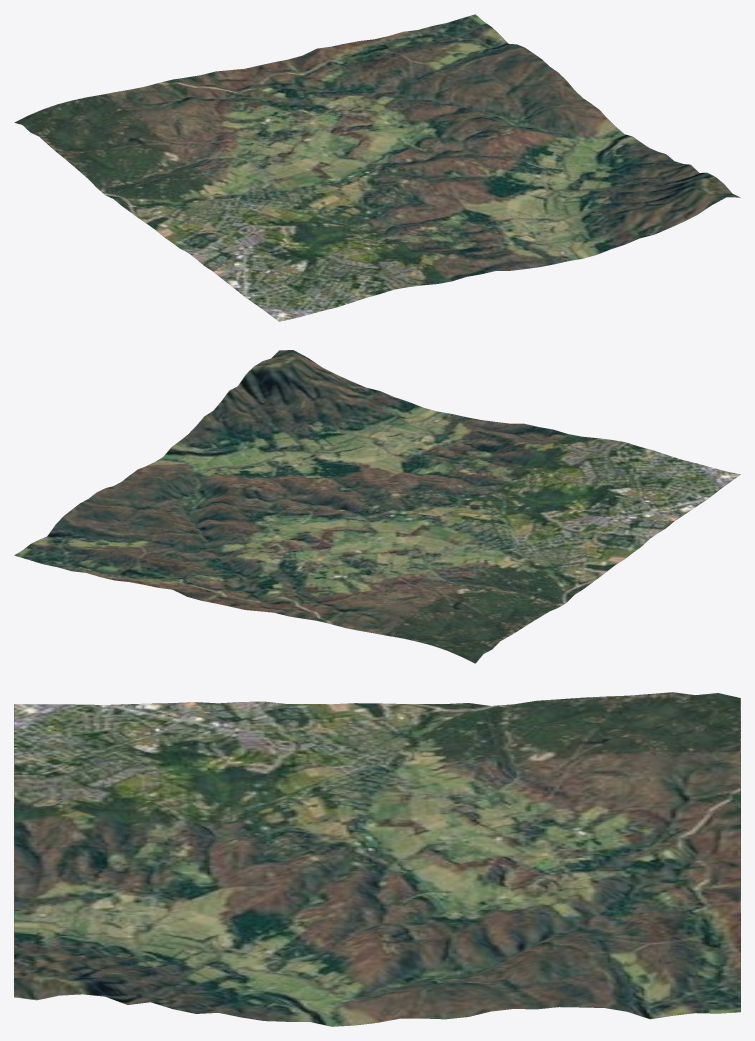
3 renders of one model, top to bottom at view 1: azimuth 30°, elevation 25°; view 2: azimuth 150°, elevation 25°; view 3: azimuth 270°, elevation 25°, orthographic. The views are drawn at different scales.
Bounding box in the file's own units: 7800 × 435 × 7765.
1 material, 1 textured.
